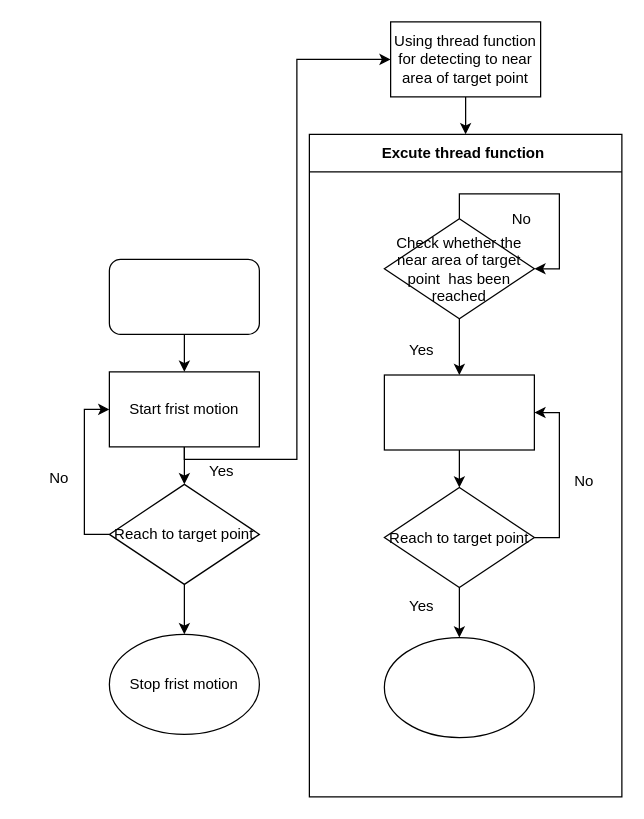
The diagram is 644 pixels wide and 819 high, and some of its shapes have lost their labels. Here are the shapes that lost their labels. From the top down, the centre of each, then its label:
At point (183, 296): "Operating Motion".
At point (458, 412): "Start Second motion".
At point (458, 687): "Stop second motion".
